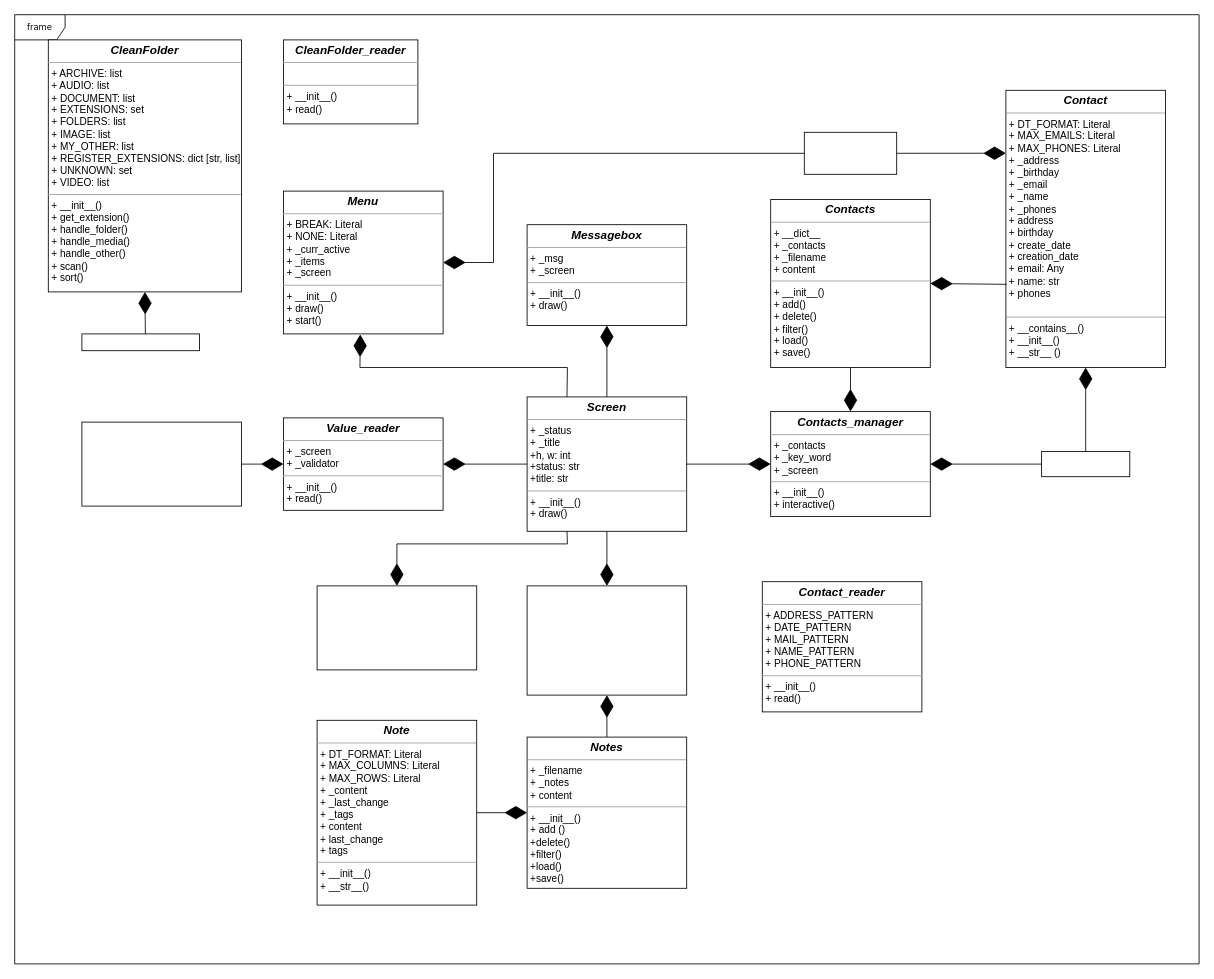
The diagram is 1214 pixels wide and 979 high, and some of its shapes have lost their labels. Each missing label, with the centre of its shape:
"list" goes at point 850,152.
"Note_reader + _screen + __init__() + read()" goes at point 396,627.
"Notes_manager + _notes + _screen +_tag_word + __init__() + interactive()" goes at point 606,640.
"Path" goes at point 140,342.
"UnknownType" goes at point 1085,464.
"Validator + _patern + __call__() + __init__()" goes at point 161,463.
